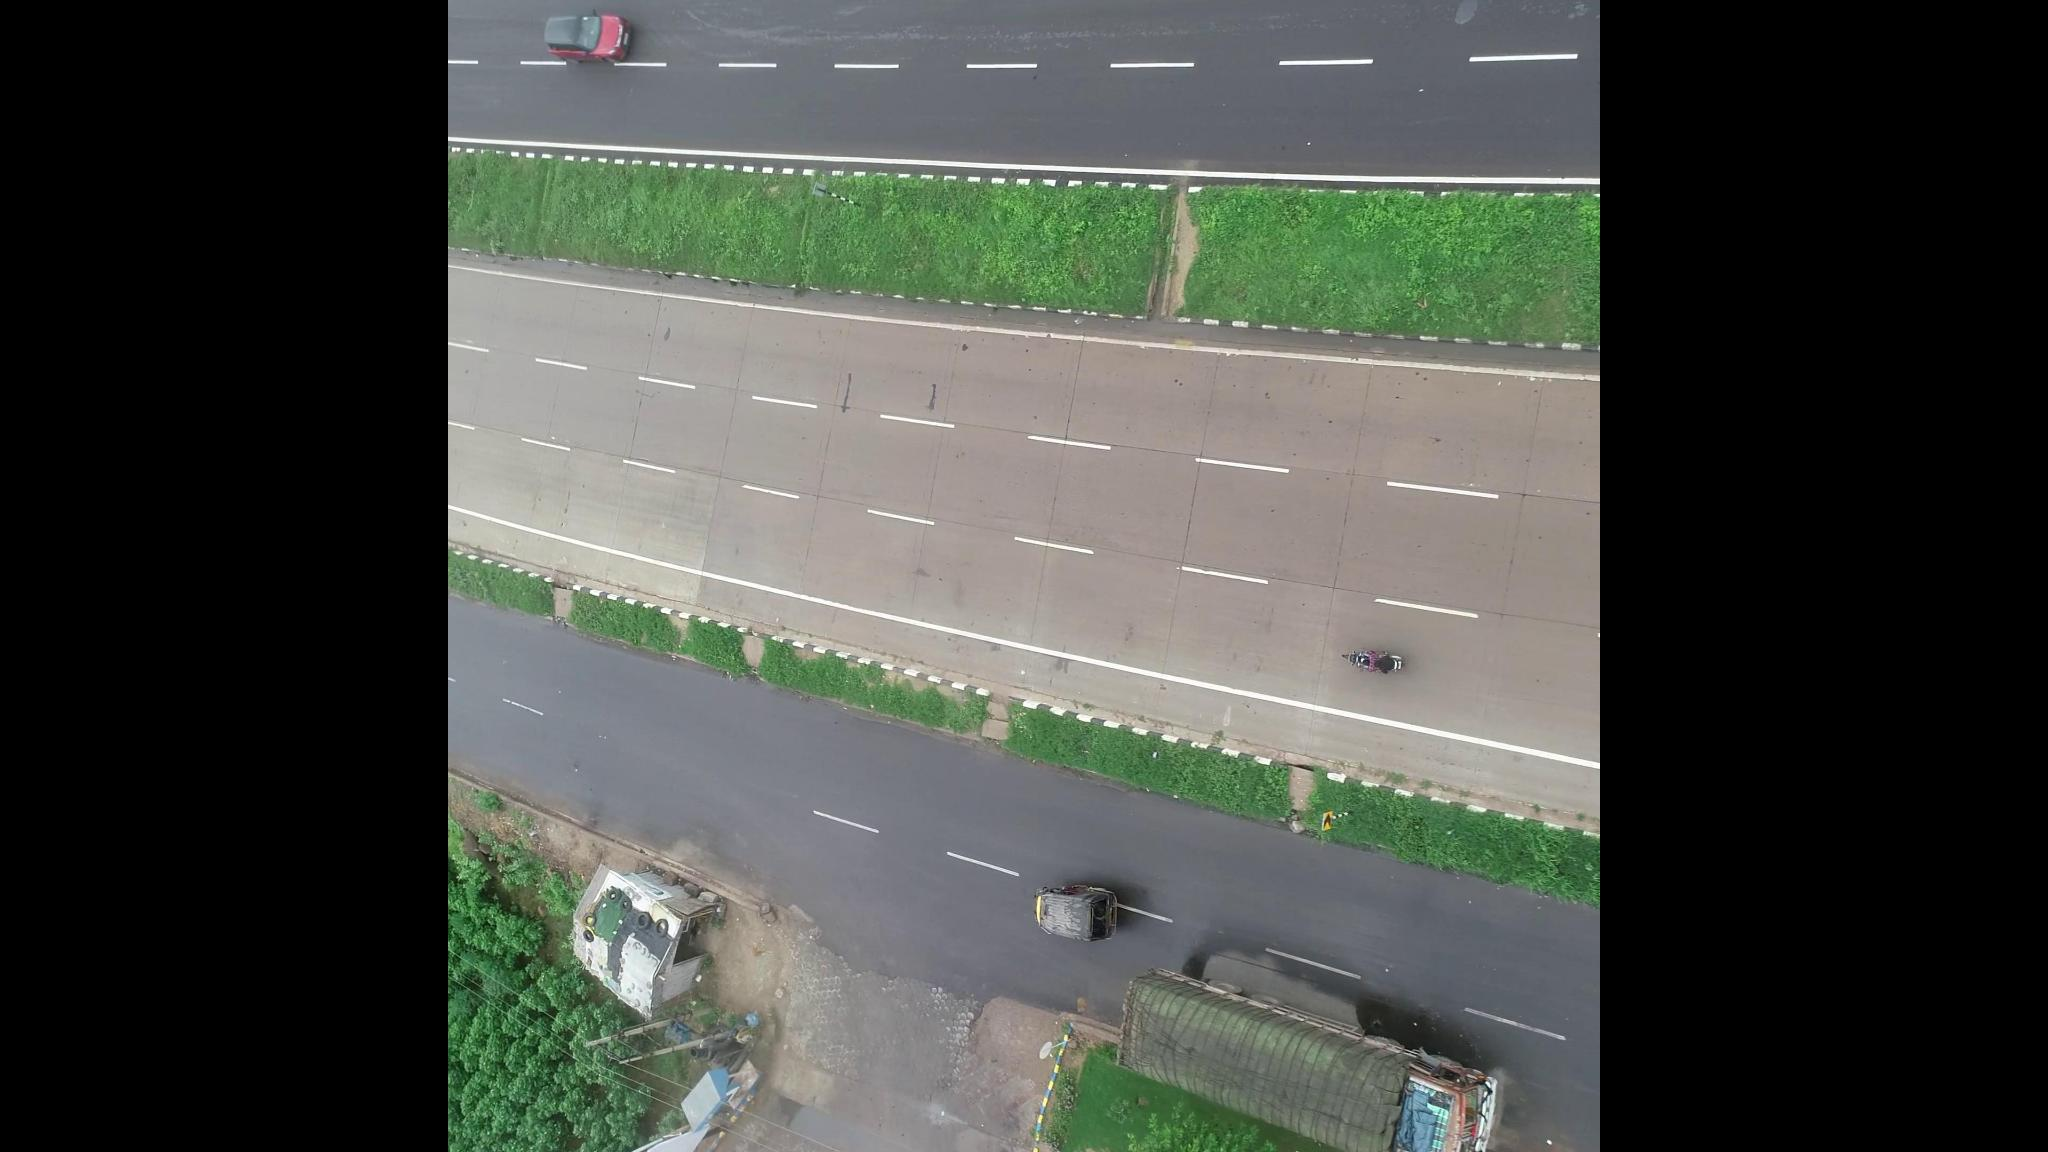Ravelling: (928, 15, 1208, 56), (691, 6, 909, 52)
